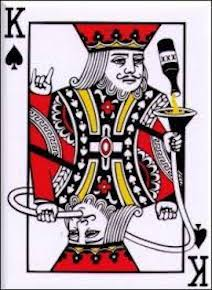KingOfSpades: (1, 1, 210, 289)
